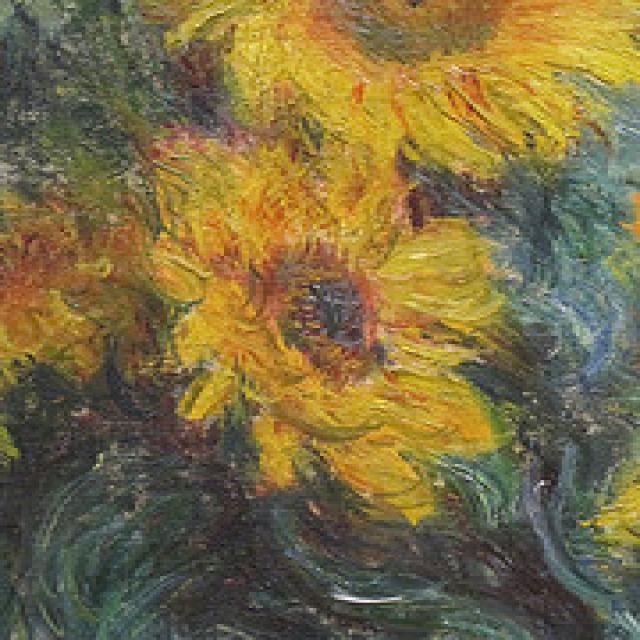sunflower: (147, 144, 517, 516), (146, 0, 640, 160)
